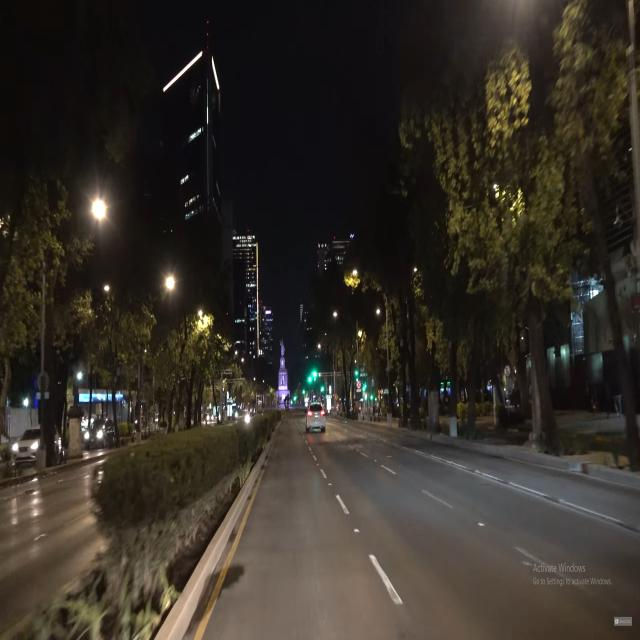headlights: (9, 438, 42, 456), (82, 425, 105, 446)
